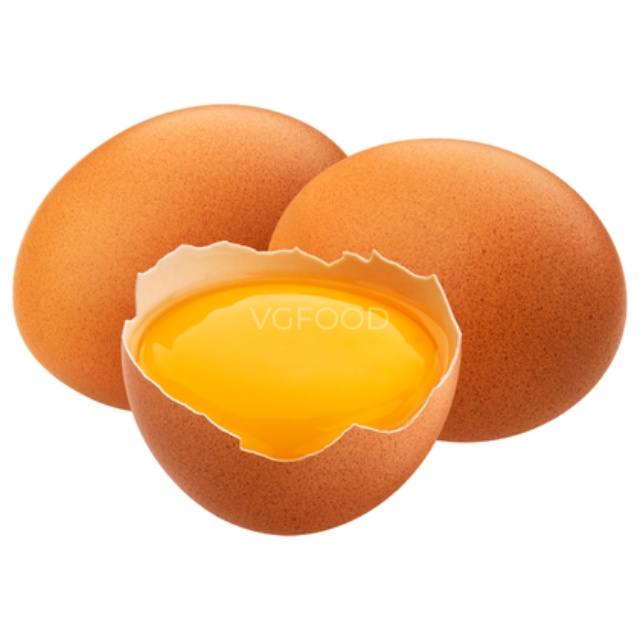trung_ga: (263, 132, 631, 448), (6, 101, 352, 416)
